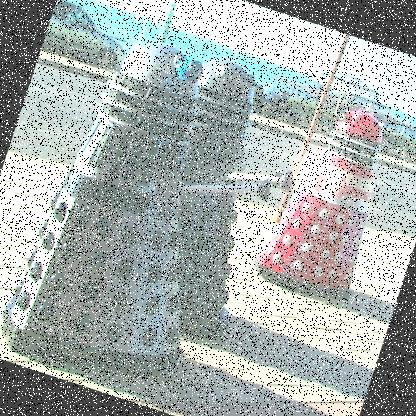Car: (41, 0, 137, 75)
